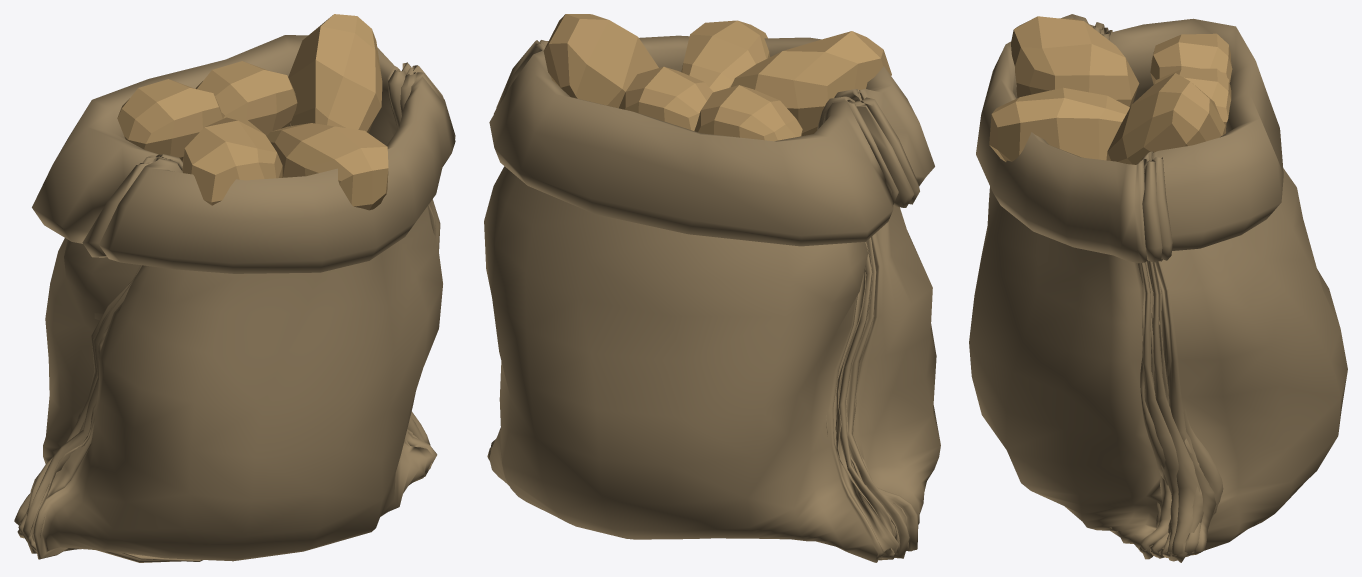
The model's file is potatoBagBFull_LP.fbx.
3 renders of one model, left to right at view 1: azimuth 30°, elevation 25°; view 2: azimuth 150°, elevation 25°; view 3: azimuth 270°, elevation 25°, orthographic. The views are drawn at different scales.
Visible parts, largest first — view 1: PotatoBag.B_LP, PotatoB.002_LP.002, PotatoB.002_LP.001, PotatoA.001_LP.001, PotatoB.001_LP.001, PotatoA.001_LP.002; view 2: PotatoBag.B_LP, PotatoB.001_LP.001, PotatoB.002_LP.002, PotatoB.002_LP.001, PotatoA.001_LP.001, PotatoA.001_LP.002; view 3: PotatoBag.B_LP, PotatoB.001_LP.001, PotatoB.002_LP.001, PotatoB.002_LP.002, PotatoA.001_LP.001, PotatoA.001_LP.002.
Part boxes in pixels (x1,y1,x2,y2): PotatoBag.B_LP: [14, 35, 455, 562]; PotatoB.002_LP.002: [288, 14, 382, 132]; PotatoB.002_LP.001: [266, 123, 388, 210]; PotatoA.001_LP.001: [117, 79, 222, 161]; PotatoB.001_LP.001: [182, 117, 282, 205]; PotatoA.001_LP.002: [195, 61, 297, 135]; PotatoBag.B_LP: [484, 35, 940, 562]; PotatoB.001_LP.001: [730, 31, 891, 135]; PotatoB.002_LP.002: [543, 14, 658, 108]; PotatoB.002_LP.001: [681, 20, 769, 91]; PotatoA.001_LP.001: [694, 85, 802, 141]; PotatoA.001_LP.002: [619, 66, 713, 130]; PotatoBag.B_LP: [969, 14, 1347, 562]; PotatoB.001_LP.001: [1011, 16, 1139, 107]; PotatoB.002_LP.001: [989, 87, 1129, 161]; PotatoB.002_LP.002: [1106, 73, 1225, 164]; PotatoA.001_LP.001: [1150, 33, 1232, 84]; PotatoA.001_LP.002: [1154, 68, 1231, 133].
Bounding box in the file's own units: 173 × 192 × 141.
